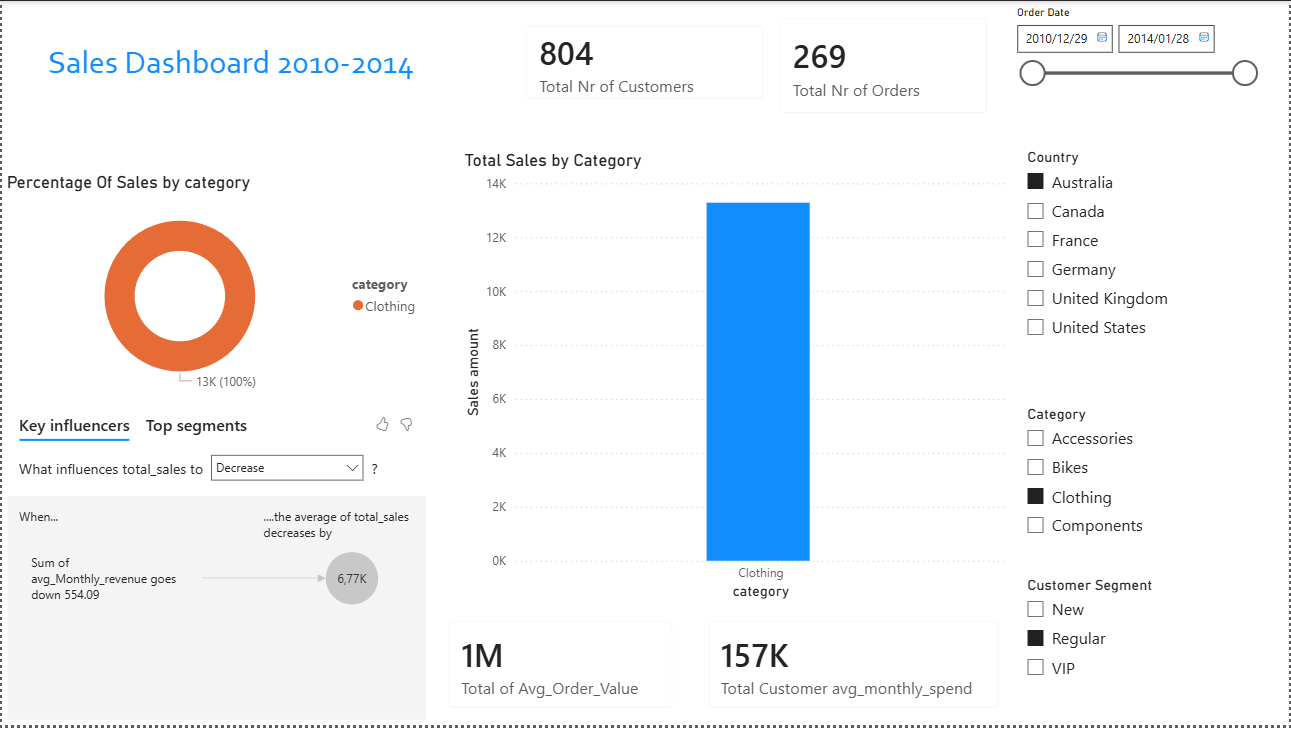

This screenshot's page, from the dashboard's own definition file:
{"tool":"powerbi","page":{"name":"Page 1","canvas":[1280,720],"ordinal":0},"visuals":[{"type":"columnChart","title":"Total Sales by Category","fields":{"Category":["gold dim_products.category"],"Y":["Sum(gold fact_sales.sales_amount)"]},"box":[455.4,147.4,548,451.7],"z":0},{"type":"slicer","fields":{"Values":["gold fact_sales.order_date"]},"box":[995.9,0,260.8,141.7],"z":1000},{"type":"slicer","fields":{"Values":["gold dim_customers.country"]},"box":[1007.3,141.7,260.8,230.6],"z":2000},{"type":"slicer","fields":{"Values":["gold dim_products.category"]},"box":[1007.3,396.9,272.1,170.1],"z":3000},{"type":"cardVisual","fields":{"Data":["Count(gold fact_sales.order_number)"]},"box":[755.9,0,240,128.5],"z":4000},{"type":"cardVisual","fields":{"Data":["Count(gold dim_customers.customer_key)"]},"box":[504.6,7.6,270.2,107.7],"z":5000},{"type":"donutChart","fields":{"Y":["Sum(gold fact_sales.sales_amount)"],"Category":["gold dim_products.category"]},"box":[0,170.1,427.1,226.8],"z":6000},{"type":"slicer","fields":{"Values":["gold V_dim_customers.customer_segment"]},"box":[1007.3,566.9,272.1,153.1],"z":7000},{"type":"cardVisual","fields":{"Data":["Sum(gold V_dim_customers.avg_monthly_spend)"]},"box":[684.1,599.1,323.2,120.9],"z":8000},{"type":"cardVisual","fields":{"Data":["Sum(gold V_dim_customers.Avg_Order_Value)"]},"box":[427.1,599.1,257,120.9],"z":9000},{"type":"textbox","box":[0,0,455.4,128.5],"z":10000},{"type":"keyDriversVisual","fields":{"Target":["gold V_dim_products.total_sales"],"ExplainBy":["Sum(gold V_dim_products.lifespan)","gold V_dim_products.category","Sum(gold V_dim_products.avg_Monthly_revenue)","Sum(gold V_dim_products.total_quantity)","gold V_dim_products.Product_segment"]},"box":[0,396.9,427.1,323.2],"z":11000}]}

Visuals, with their boxes in screenshot pixels (x1, y1, x2, y2), scaled from the page's 1280x720 canvas onto the 1291x730 screenshot:
"Total Sales by Category" columnChart: 459, 149, 1012, 607
slicer - gold fact_sales.order_date: 1004, 0, 1267, 144
slicer - gold dim_customers.country: 1016, 144, 1279, 377
slicer - gold dim_products.category: 1016, 402, 1290, 575
cardVisual - Count(gold fact_sales.order_number): 762, 0, 1004, 130
cardVisual - Count(gold dim_customers.customer_key): 509, 8, 781, 117
donutChart - Sum(gold fact_sales.sales_amount) x gold dim_products.category: 0, 172, 431, 402
slicer - gold V_dim_customers.customer_segment: 1016, 575, 1290, 729
cardVisual - Sum(gold V_dim_customers.avg_monthly_spend): 690, 607, 1016, 729
cardVisual - Sum(gold V_dim_customers.Avg_Order_Value): 431, 607, 690, 729
textbox: 0, 0, 459, 130
keyDriversVisual - gold V_dim_products.total_sales x Sum(gold V_dim_products.lifespan): 0, 402, 431, 729
